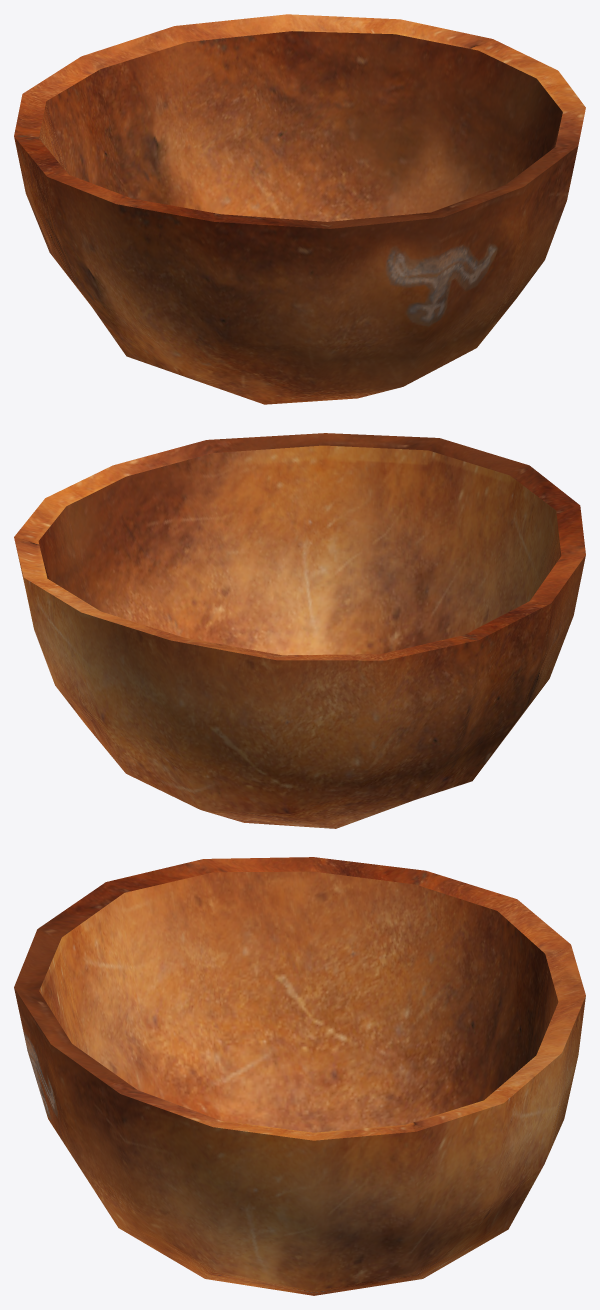
The model's file is totuma.fbx.
3 views of the same model, one above another, from view 1: azimuth 30°, elevation 25°; view 2: azimuth 150°, elevation 25°; view 3: azimuth 270°, elevation 25° (orthographic). The views are drawn at different scales.
Visible parts, largest first — view 1: baston1:coquita; view 2: baston1:coquita; view 3: baston1:coquita.
Part boxes in pixels (<box>): baston1:coquita: <box>14,14,585,404</box>; baston1:coquita: <box>14,433,585,828</box>; baston1:coquita: <box>14,857,585,1295</box>.
Bounding box in the file's own units: 6.65 × 3.3 × 6.09.
